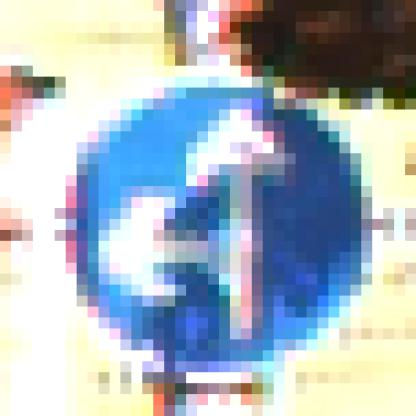Straight or Left: (56, 56, 362, 362)
